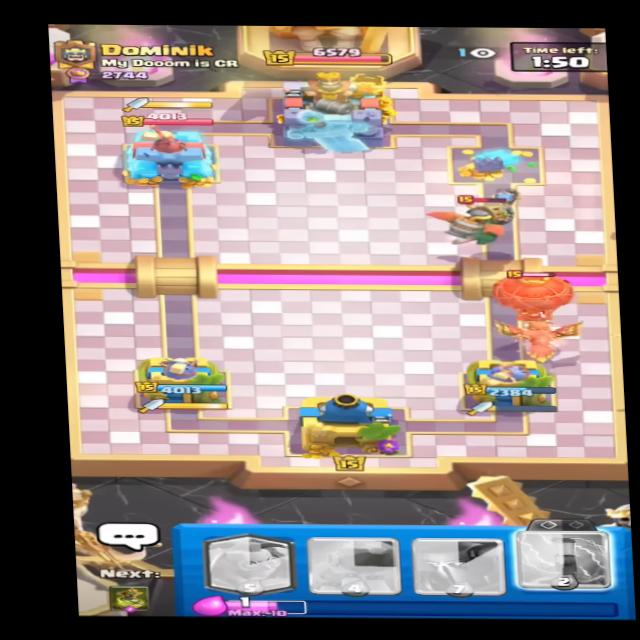balloon: (490, 267, 581, 326)
inferno-dragon: (424, 194, 520, 250)
